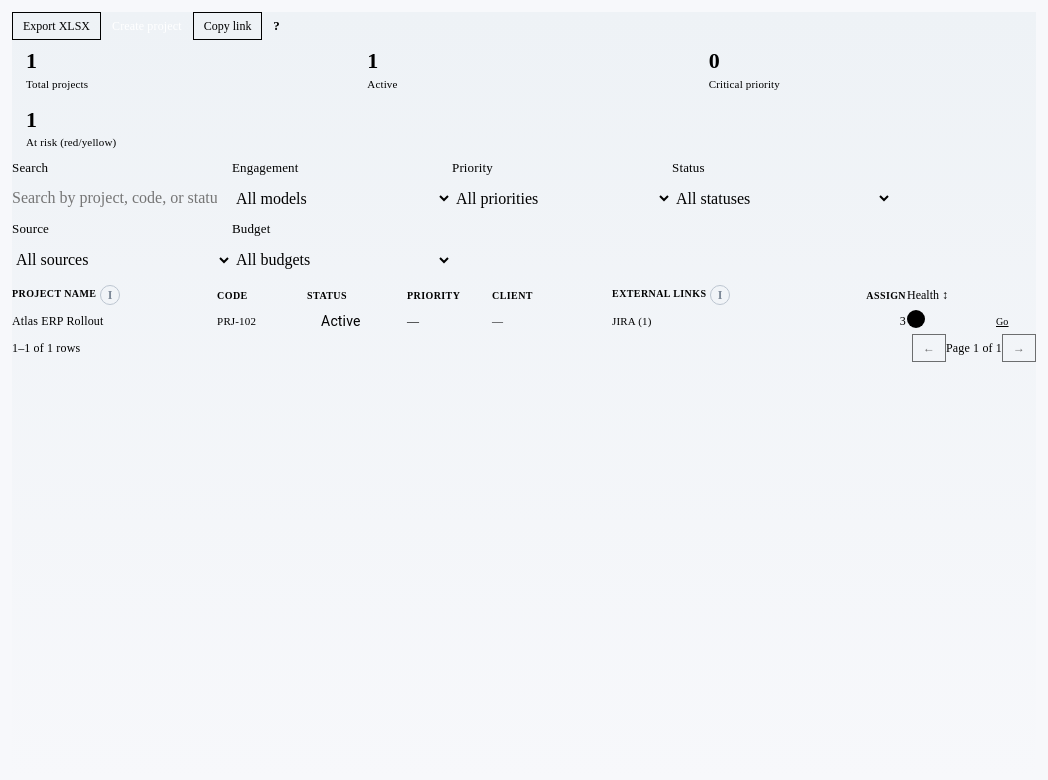
it: SCOPED-MIN-1 — ProjectsPage dsRefresh additions › closes the inspector when Close button is clicked
Click the text "Atlas ERP Rollout". click: (58, 321)
box: [12,314,104,328]
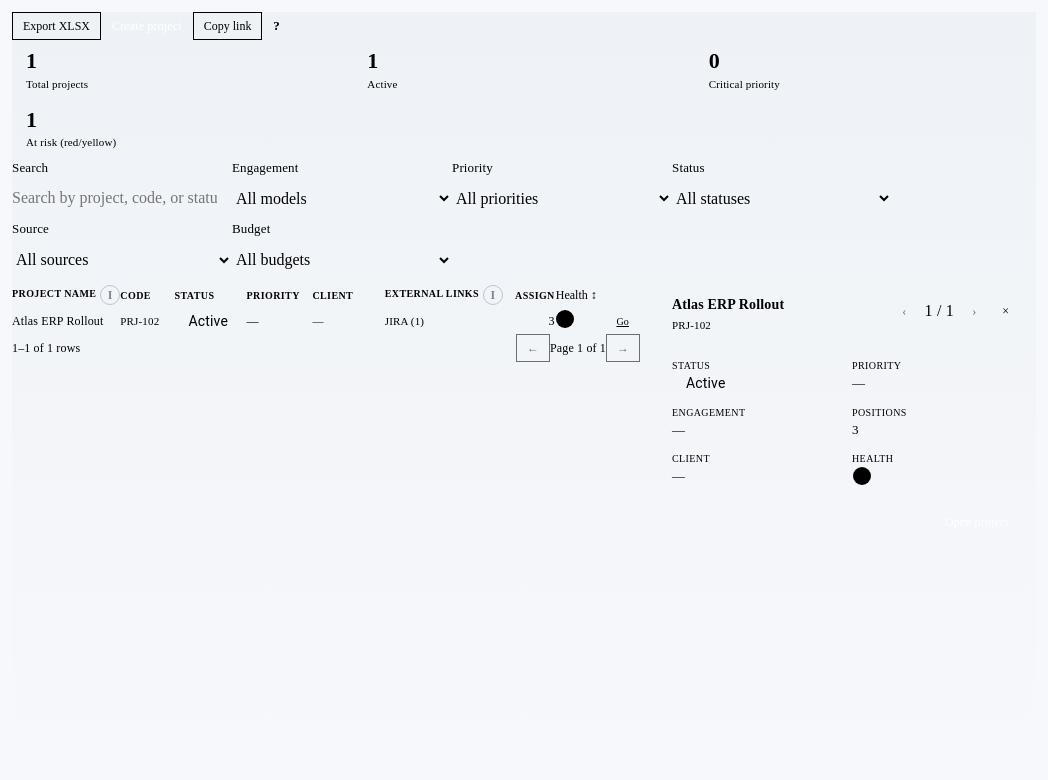
Expected: the element with test id "project-directory-inspector" is shown, [656,281,1036,552]
Click the button named "Close inspector". click: (1006, 311)
box: [991,297,1020,325]
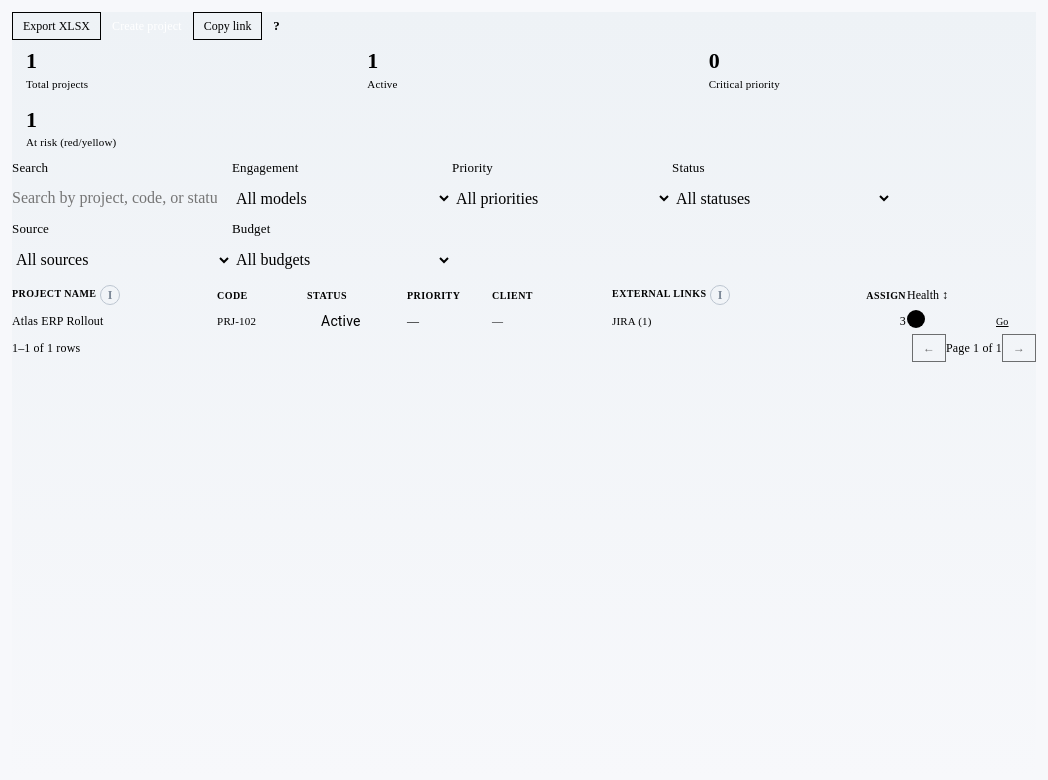
Expected: the element with test id "project-directory-inspector" is gone
